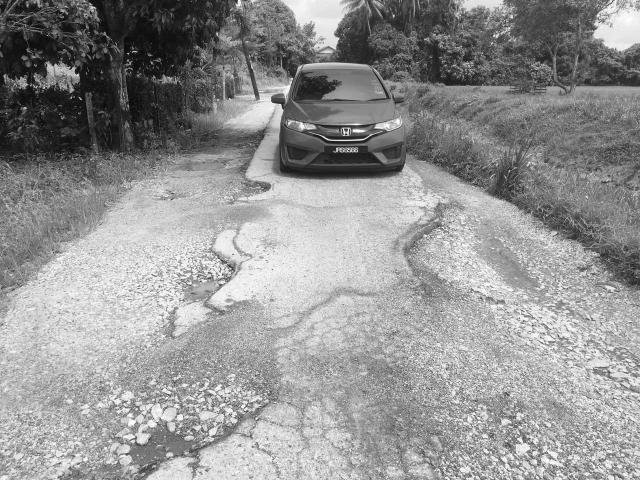Pothole: (114, 421, 194, 475), (181, 276, 235, 303)
